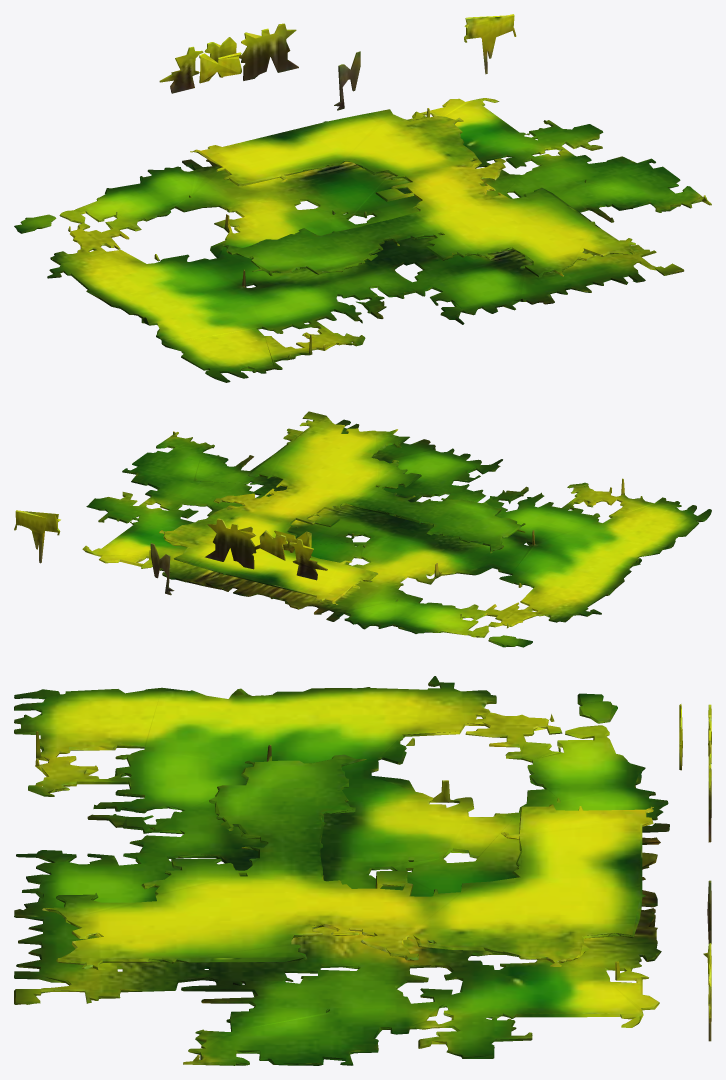
The model's file is swamp_reed_cluster_01.glb.
The picture shows the model from 3 angles, top to bottom: view 1: azimuth 30°, elevation 25°; view 2: azimuth 150°, elevation 25°; view 3: azimuth 270°, elevation 25°; orthographic projection. The views are drawn at different scales.
Visible parts, largest first — view 1: geometry_0; view 2: geometry_0; view 3: geometry_0.
Part boxes in pixels (left/top/right/bottom): geometry_0: left=14, top=14, right=711, bottom=382; geometry_0: left=14, top=411, right=711, bottom=647; geometry_0: left=14, top=676, right=711, bottom=1065.
Size of the model in its own units: 0.9994 by 0.1689 by 0.761.
Materials: 1 (1 with a texture image).
